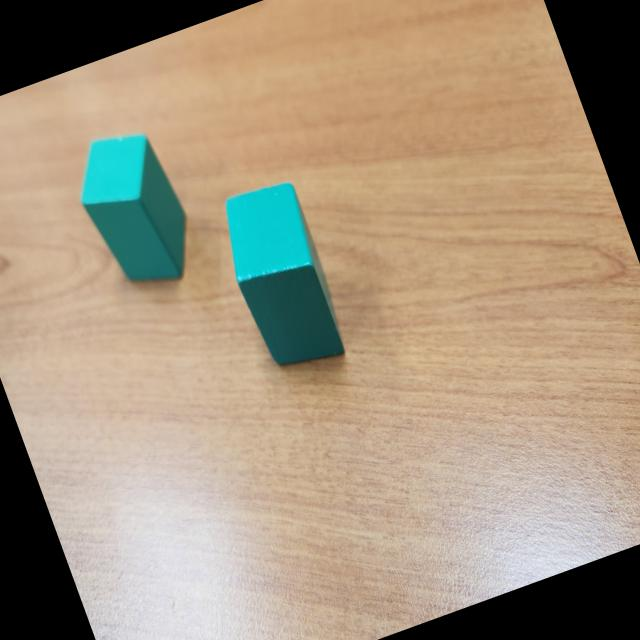green: (209, 174, 353, 378), (64, 119, 205, 301)
